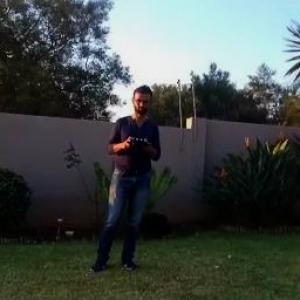follow: (84, 79, 166, 274)
